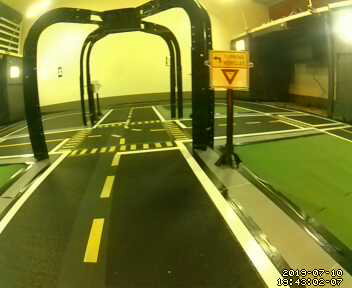Turn Yield: (210, 50, 250, 90)
